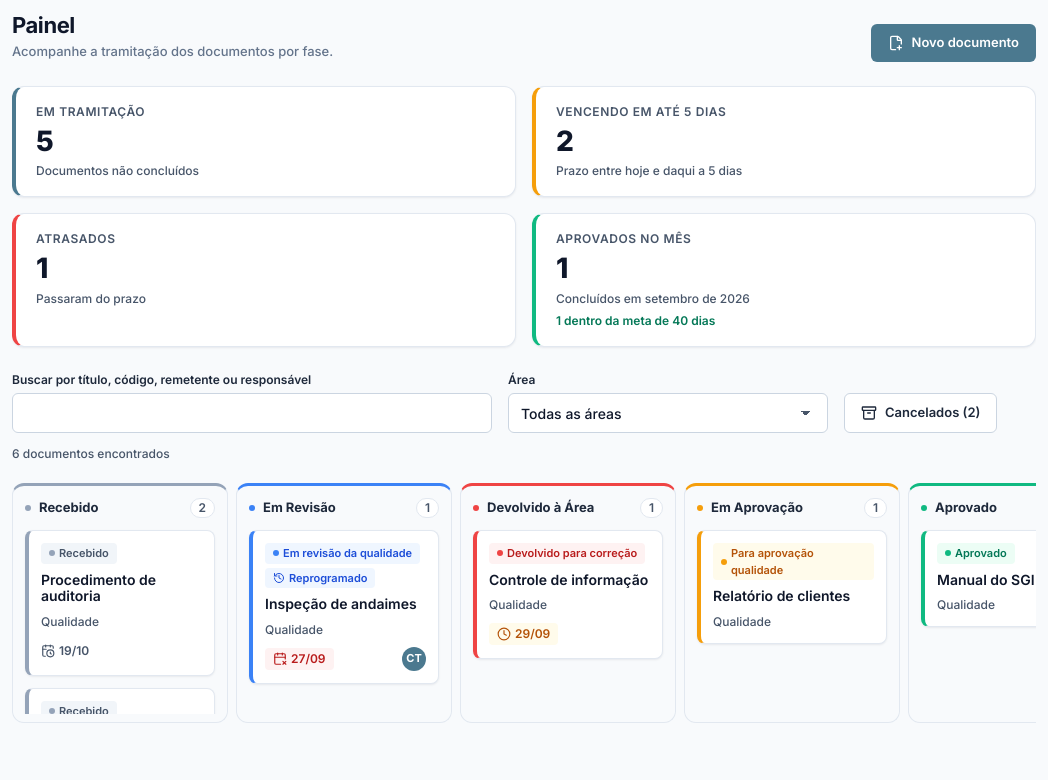
it: TelaPainel › busca sem acento filtra no cliente, atualiza a contagem e os KPIs
Check: the text "6 documentos encontrados" is shown, box [12,446,170,461]
Type "jose acao" into the search field labelled "Buscar por título, código, remetente ou responsável" at x=252, y=413, box [12,393,492,433]
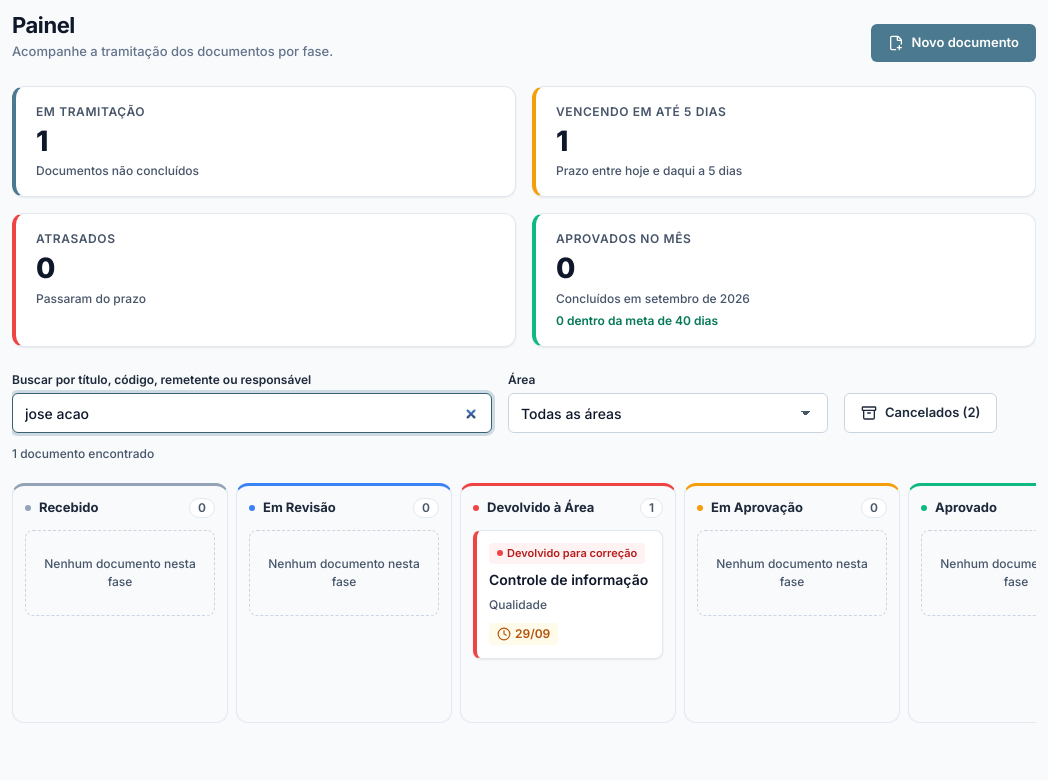
Check: the text "1 documento encontrado" is shown, box [12,446,154,461]
Check: the text "1" below "Em tramitação" is shown, box [36,124,48,158]
Check: the text "Nenhum documento nesta fase" below "Recebido" is shown, box [44,556,196,589]
